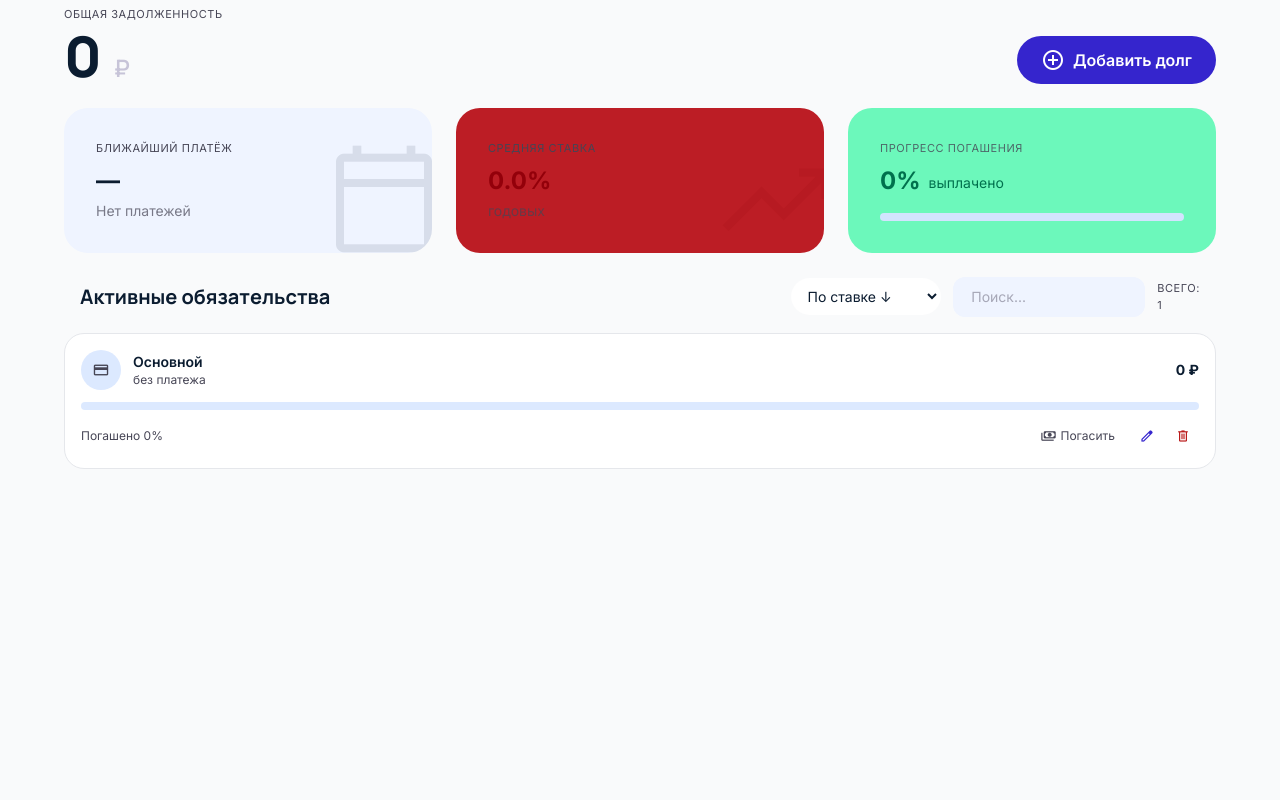
Test: Debts › opens partial close modal when payments button is clicked
Expected: the text "Общая задолженность" is shown, [64,7,223,21]
Click the button titled "Закрыть часть" at point(1078, 436), box [1028,420,1127,452]
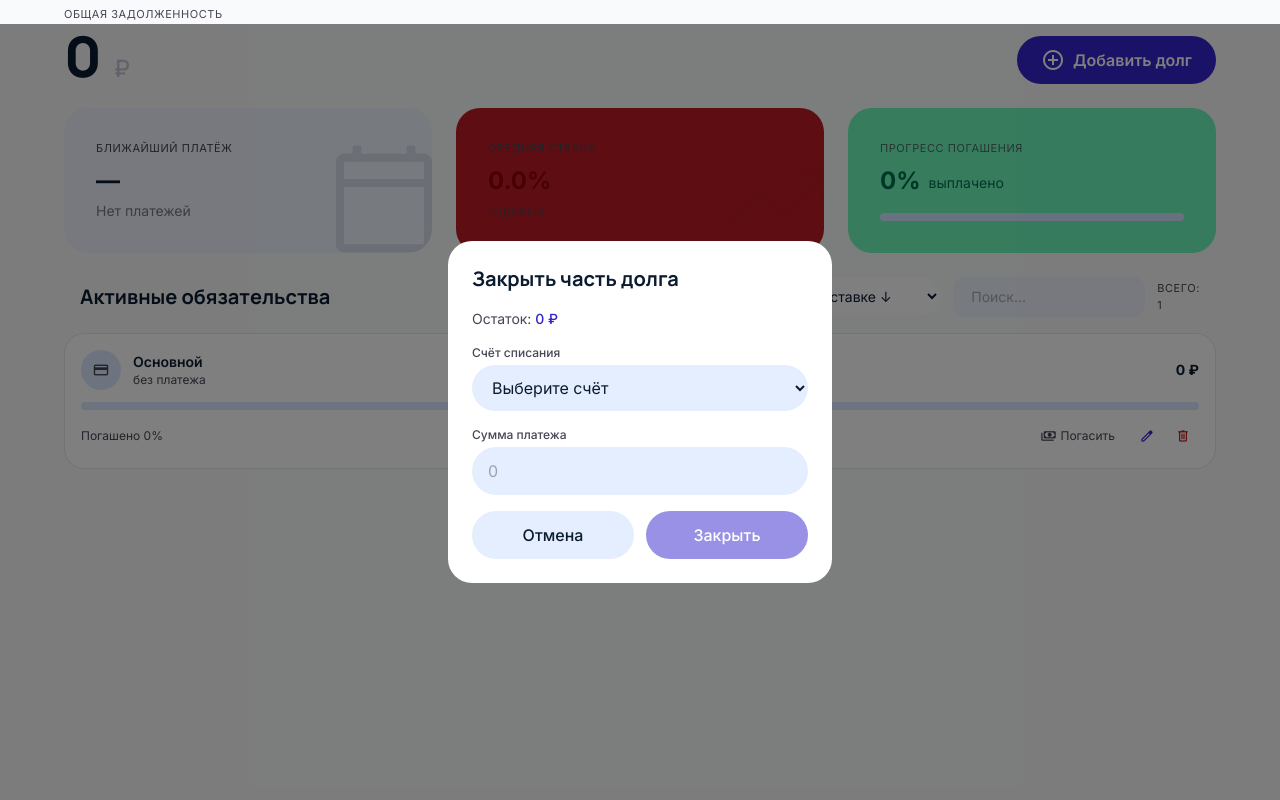
Expected: the heading "Закрыть часть долга" is shown, [472,265,679,292]
